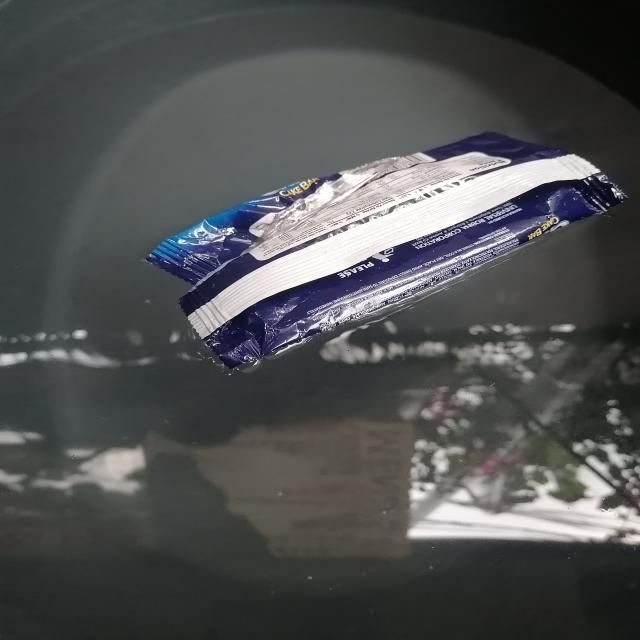Plastic Wrapper: (148, 132, 626, 368)
